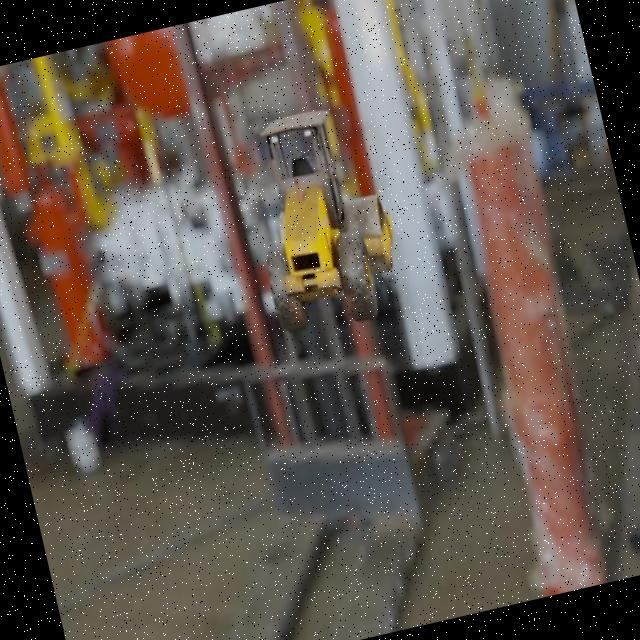Roller: (232, 98, 410, 340)
